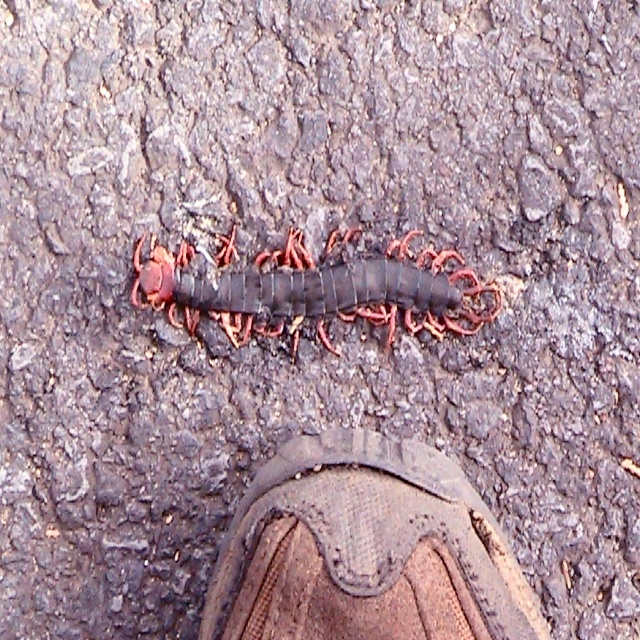Centipede: (132, 221, 499, 358)
